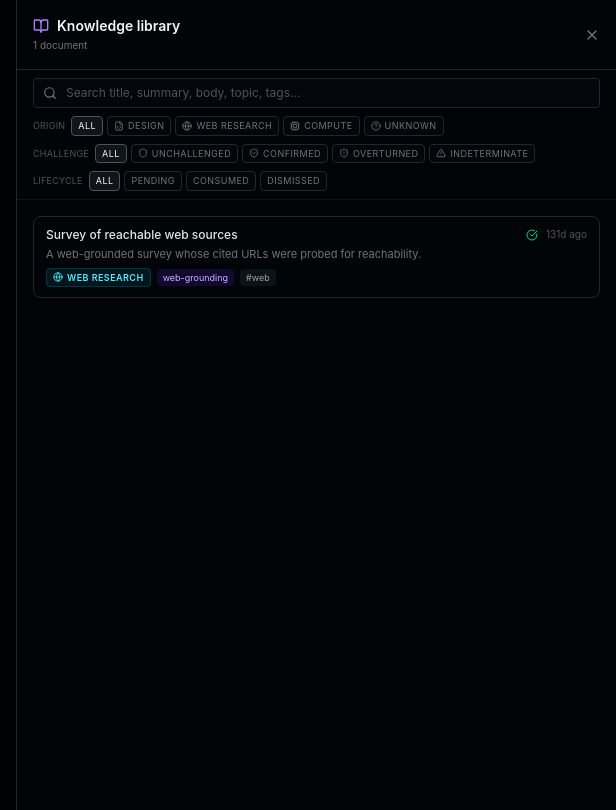
Test case: KnowledgeBrowser — document body load failure › clicking a document whose body fetch fails shows doc-error and suppresses the loading placeholder
Click the button that starts with "Survey of reachable web sources": (316,257) x1=33 y1=216 x2=600 y2=298
Wait 50 ms
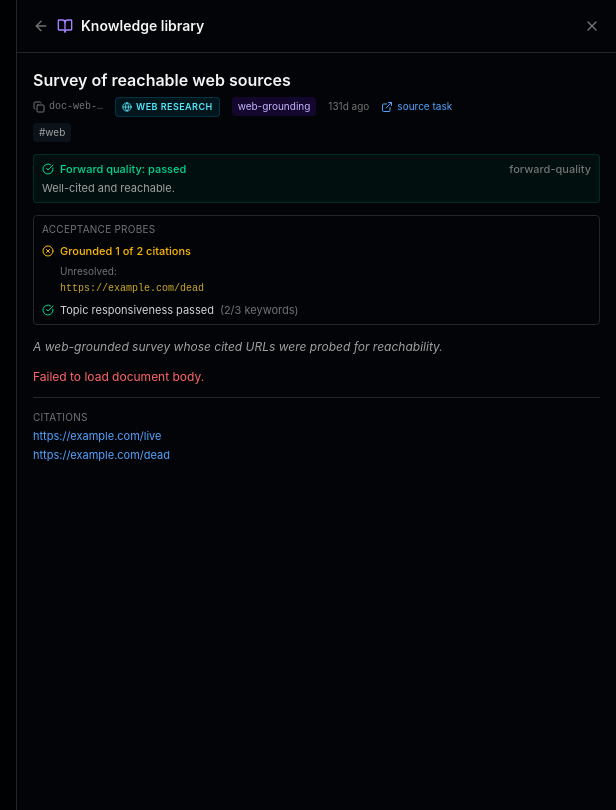
expect the text "Survey of reachable web sources" is shown: met, box x1=33 y1=70 x2=291 y2=90
expect the text with test id "doc-error" reads "Failed to load document body.": met, box x1=33 y1=369 x2=204 y2=384
